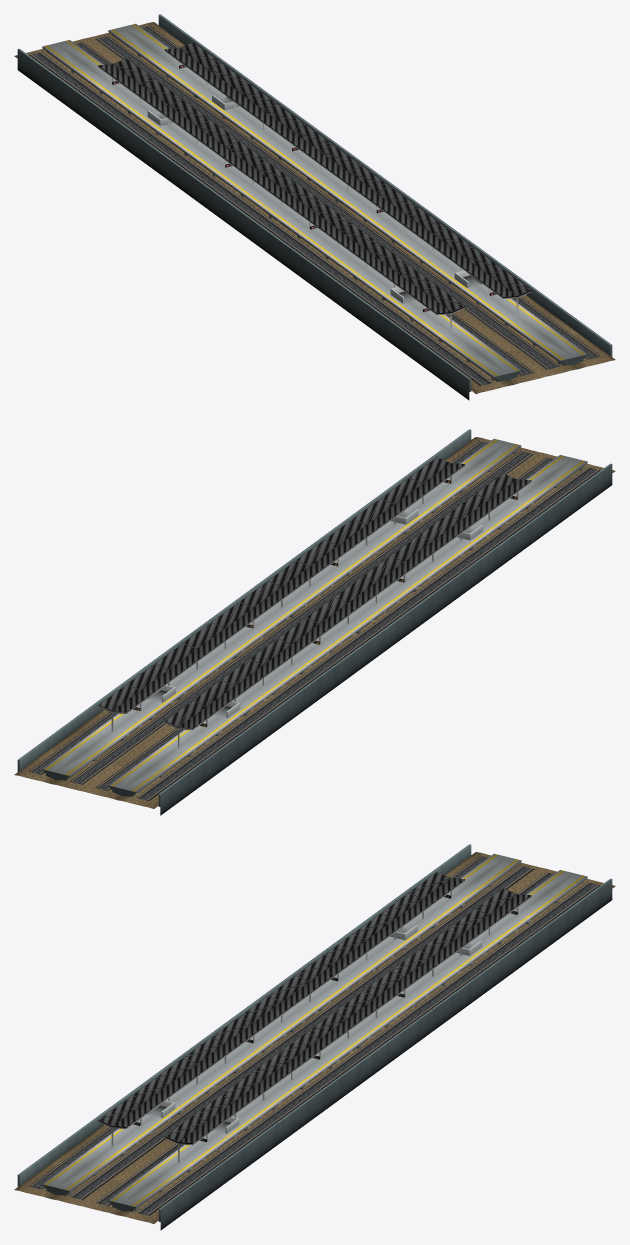
The model's file is HANKYU_4RAIL_ST00.glb.
3 renders of one model, top to bottom at view 1: azimuth 30°, elevation 25°; view 2: azimuth 150°, elevation 25°; view 3: azimuth 330°, elevation 25°, orthographic.
Visible parts, largest first — view 1: home, bone_02-14, bone_12; view 2: home, bone_02-14, bone_03; view 3: home, bone_02-14, bone_12.
Part boxes in pixels (x1,y1,x2,y2): home: [14, 14, 615, 400]; bone_02-14: [98, 42, 531, 315]; bone_12: [379, 268, 482, 306]; home: [14, 429, 615, 815]; bone_02-14: [98, 457, 531, 730]; bone_03: [140, 685, 240, 736]; home: [14, 844, 615, 1230]; bone_02-14: [98, 872, 531, 1145]; bone_12: [147, 1098, 250, 1136].
Size of the model in its own units: 73 by 19.74 by 409.
Materials: 67 (66 with a texture image).
